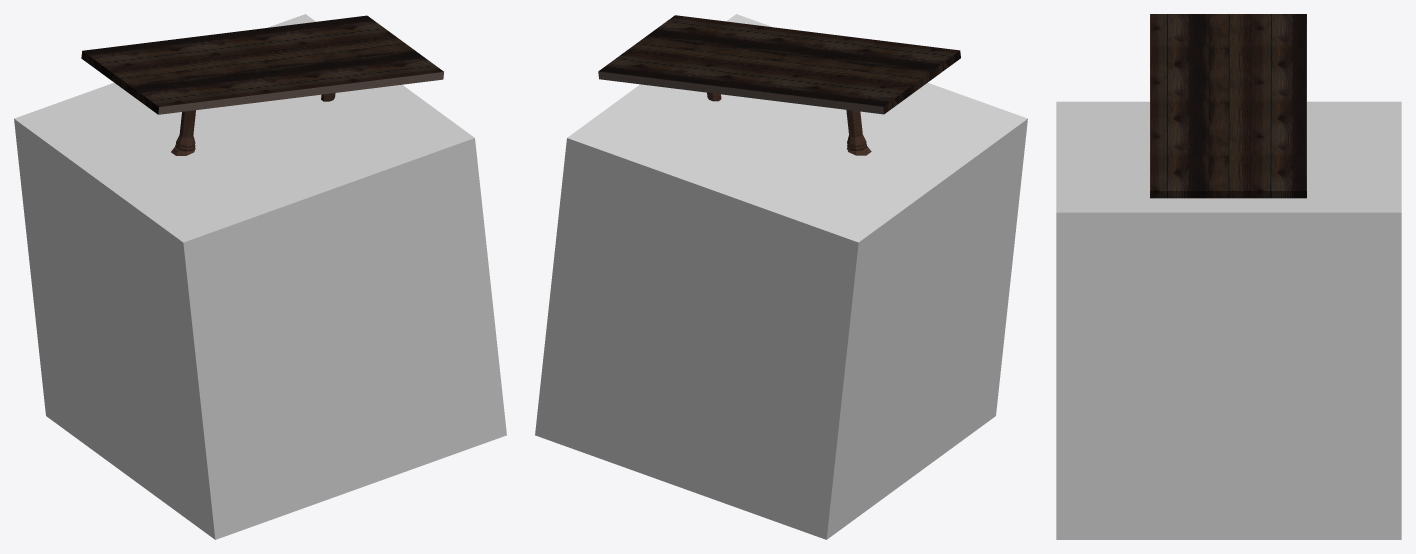
The model's file is egik masa.fbx.
The picture shows the model from 3 angles, left to right: view 1: azimuth 30°, elevation 25°; view 2: azimuth 150°, elevation 25°; view 3: azimuth 270°, elevation 25°; orthographic projection. The views are drawn at different scales.
Visible parts, largest first — view 1: Cube, Medieval Table; view 2: Cube, Medieval Table; view 3: Cube, Medieval Table.
Boxes of the visible parts, x1=… form: Cube: x1=14, y1=14, x2=506, y2=539; Medieval Table: x1=81, y1=15, x2=443, y2=155; Cube: x1=535, y1=14, x2=1027, y2=539; Medieval Table: x1=598, y1=15, x2=960, y2=155; Cube: x1=1056, y1=101, x2=1401, y2=539; Medieval Table: x1=1150, y1=14, x2=1306, y2=198.
Bounding box in the file's own units: 2.21 × 2.62 × 2.
Materials: 1 (1 with a texture image).
